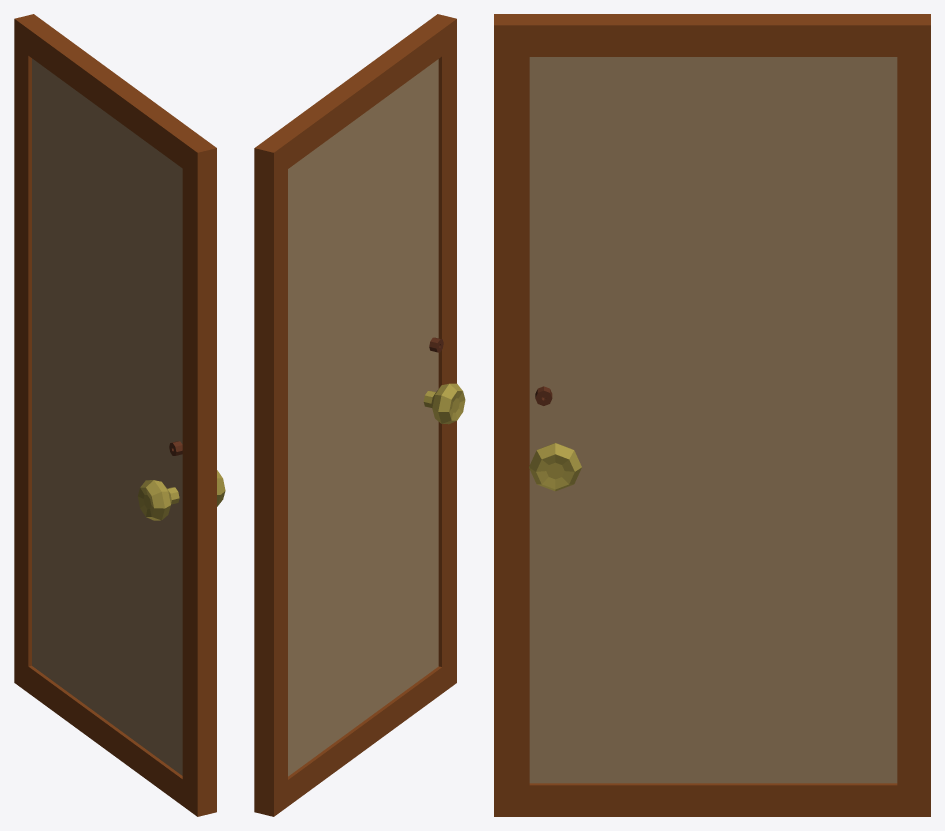
The model's file is Puerta.fbx.
3 renders of one model, left to right at view 1: azimuth 30°, elevation 25°; view 2: azimuth 150°, elevation 25°; view 3: azimuth 270°, elevation 25°, orthographic. The views are drawn at different scales.
Visible parts, largest first — view 1: Puerta, Pomo; view 2: Puerta, Pomo; view 3: Puerta, Pomo.
Boxes of the visible parts, <box> form: Puerta: <box>14,14,216,816</box>; Pomo: <box>137,470,225,520</box>; Puerta: <box>254,14,456,816</box>; Pomo: <box>423,383,465,424</box>; Puerta: <box>494,14,930,816</box>; Pomo: <box>529,443,581,491</box>.
Bounding box in the file's own units: 28.17 × 250 × 125.
